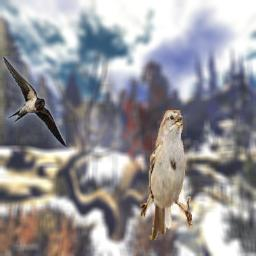Sparrow: (140, 110, 192, 240)
Swallow: (2, 56, 66, 148)
